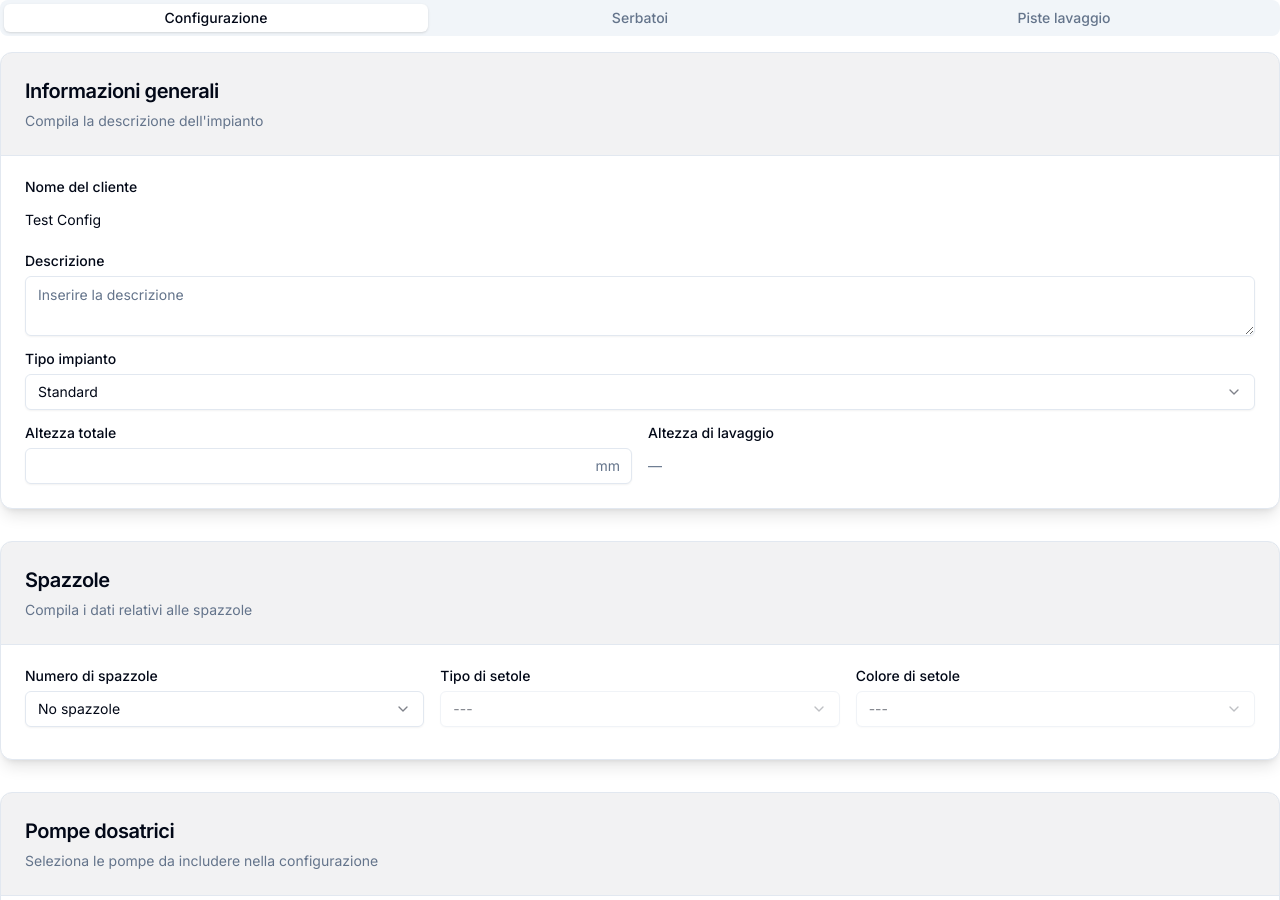
Test: FormContainer › Role-based add button visibility › shows add buttons when ENGINEER and status is IN_TECH_REVIEW
Step 1. Click the tab "Serbatoi" → point(640, 18), box [428, 4, 852, 32]
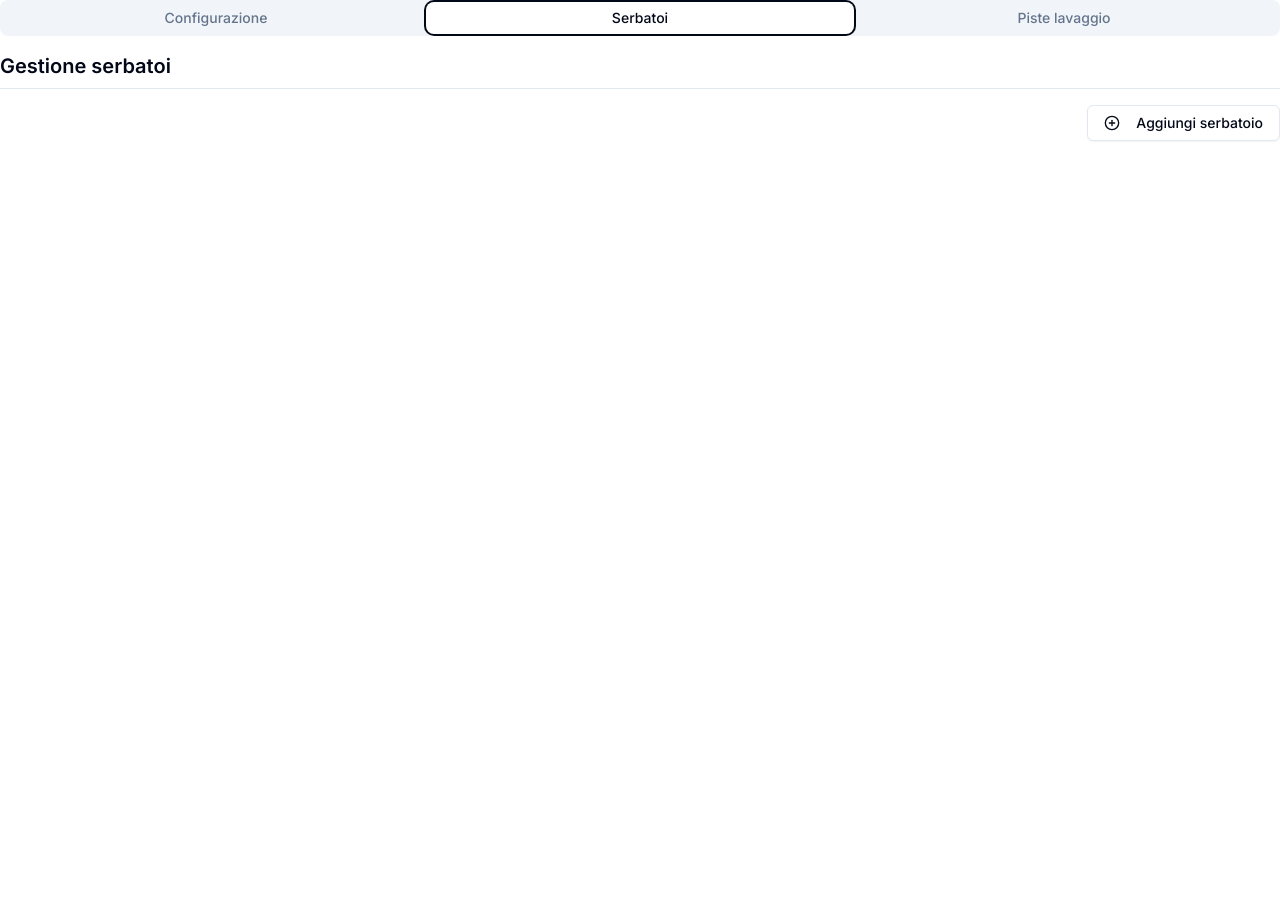
Result: the button "Aggiungi serbatoio" is shown at [1087, 105, 1279, 141]
